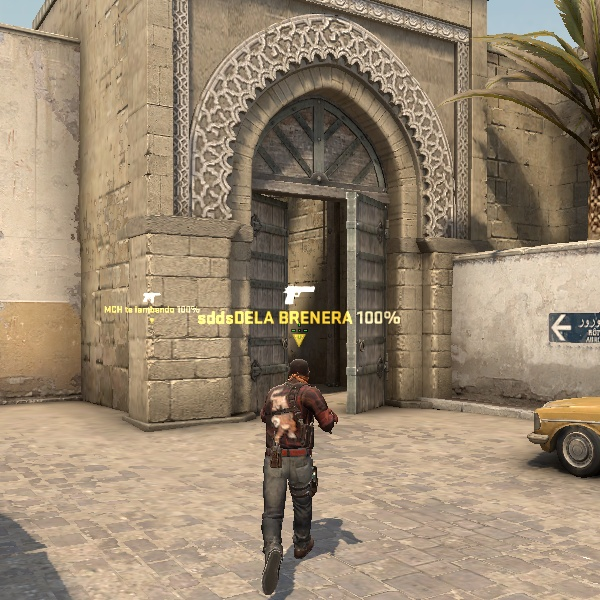t_body: (235, 353, 352, 575)
t_head: (279, 352, 319, 392)
